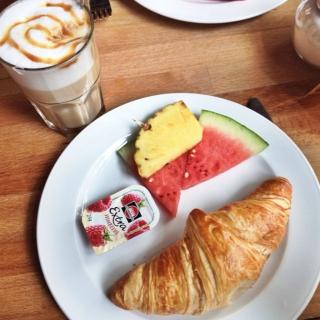Croissant: (109, 184, 292, 308)
